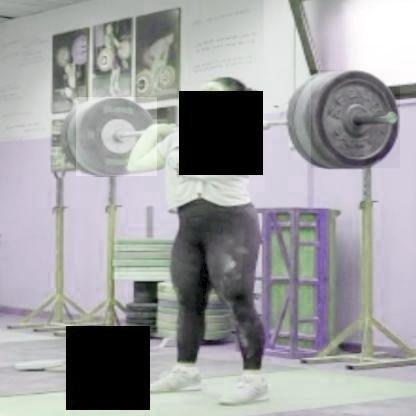barbell: (312, 70, 400, 169), (77, 98, 157, 177)
